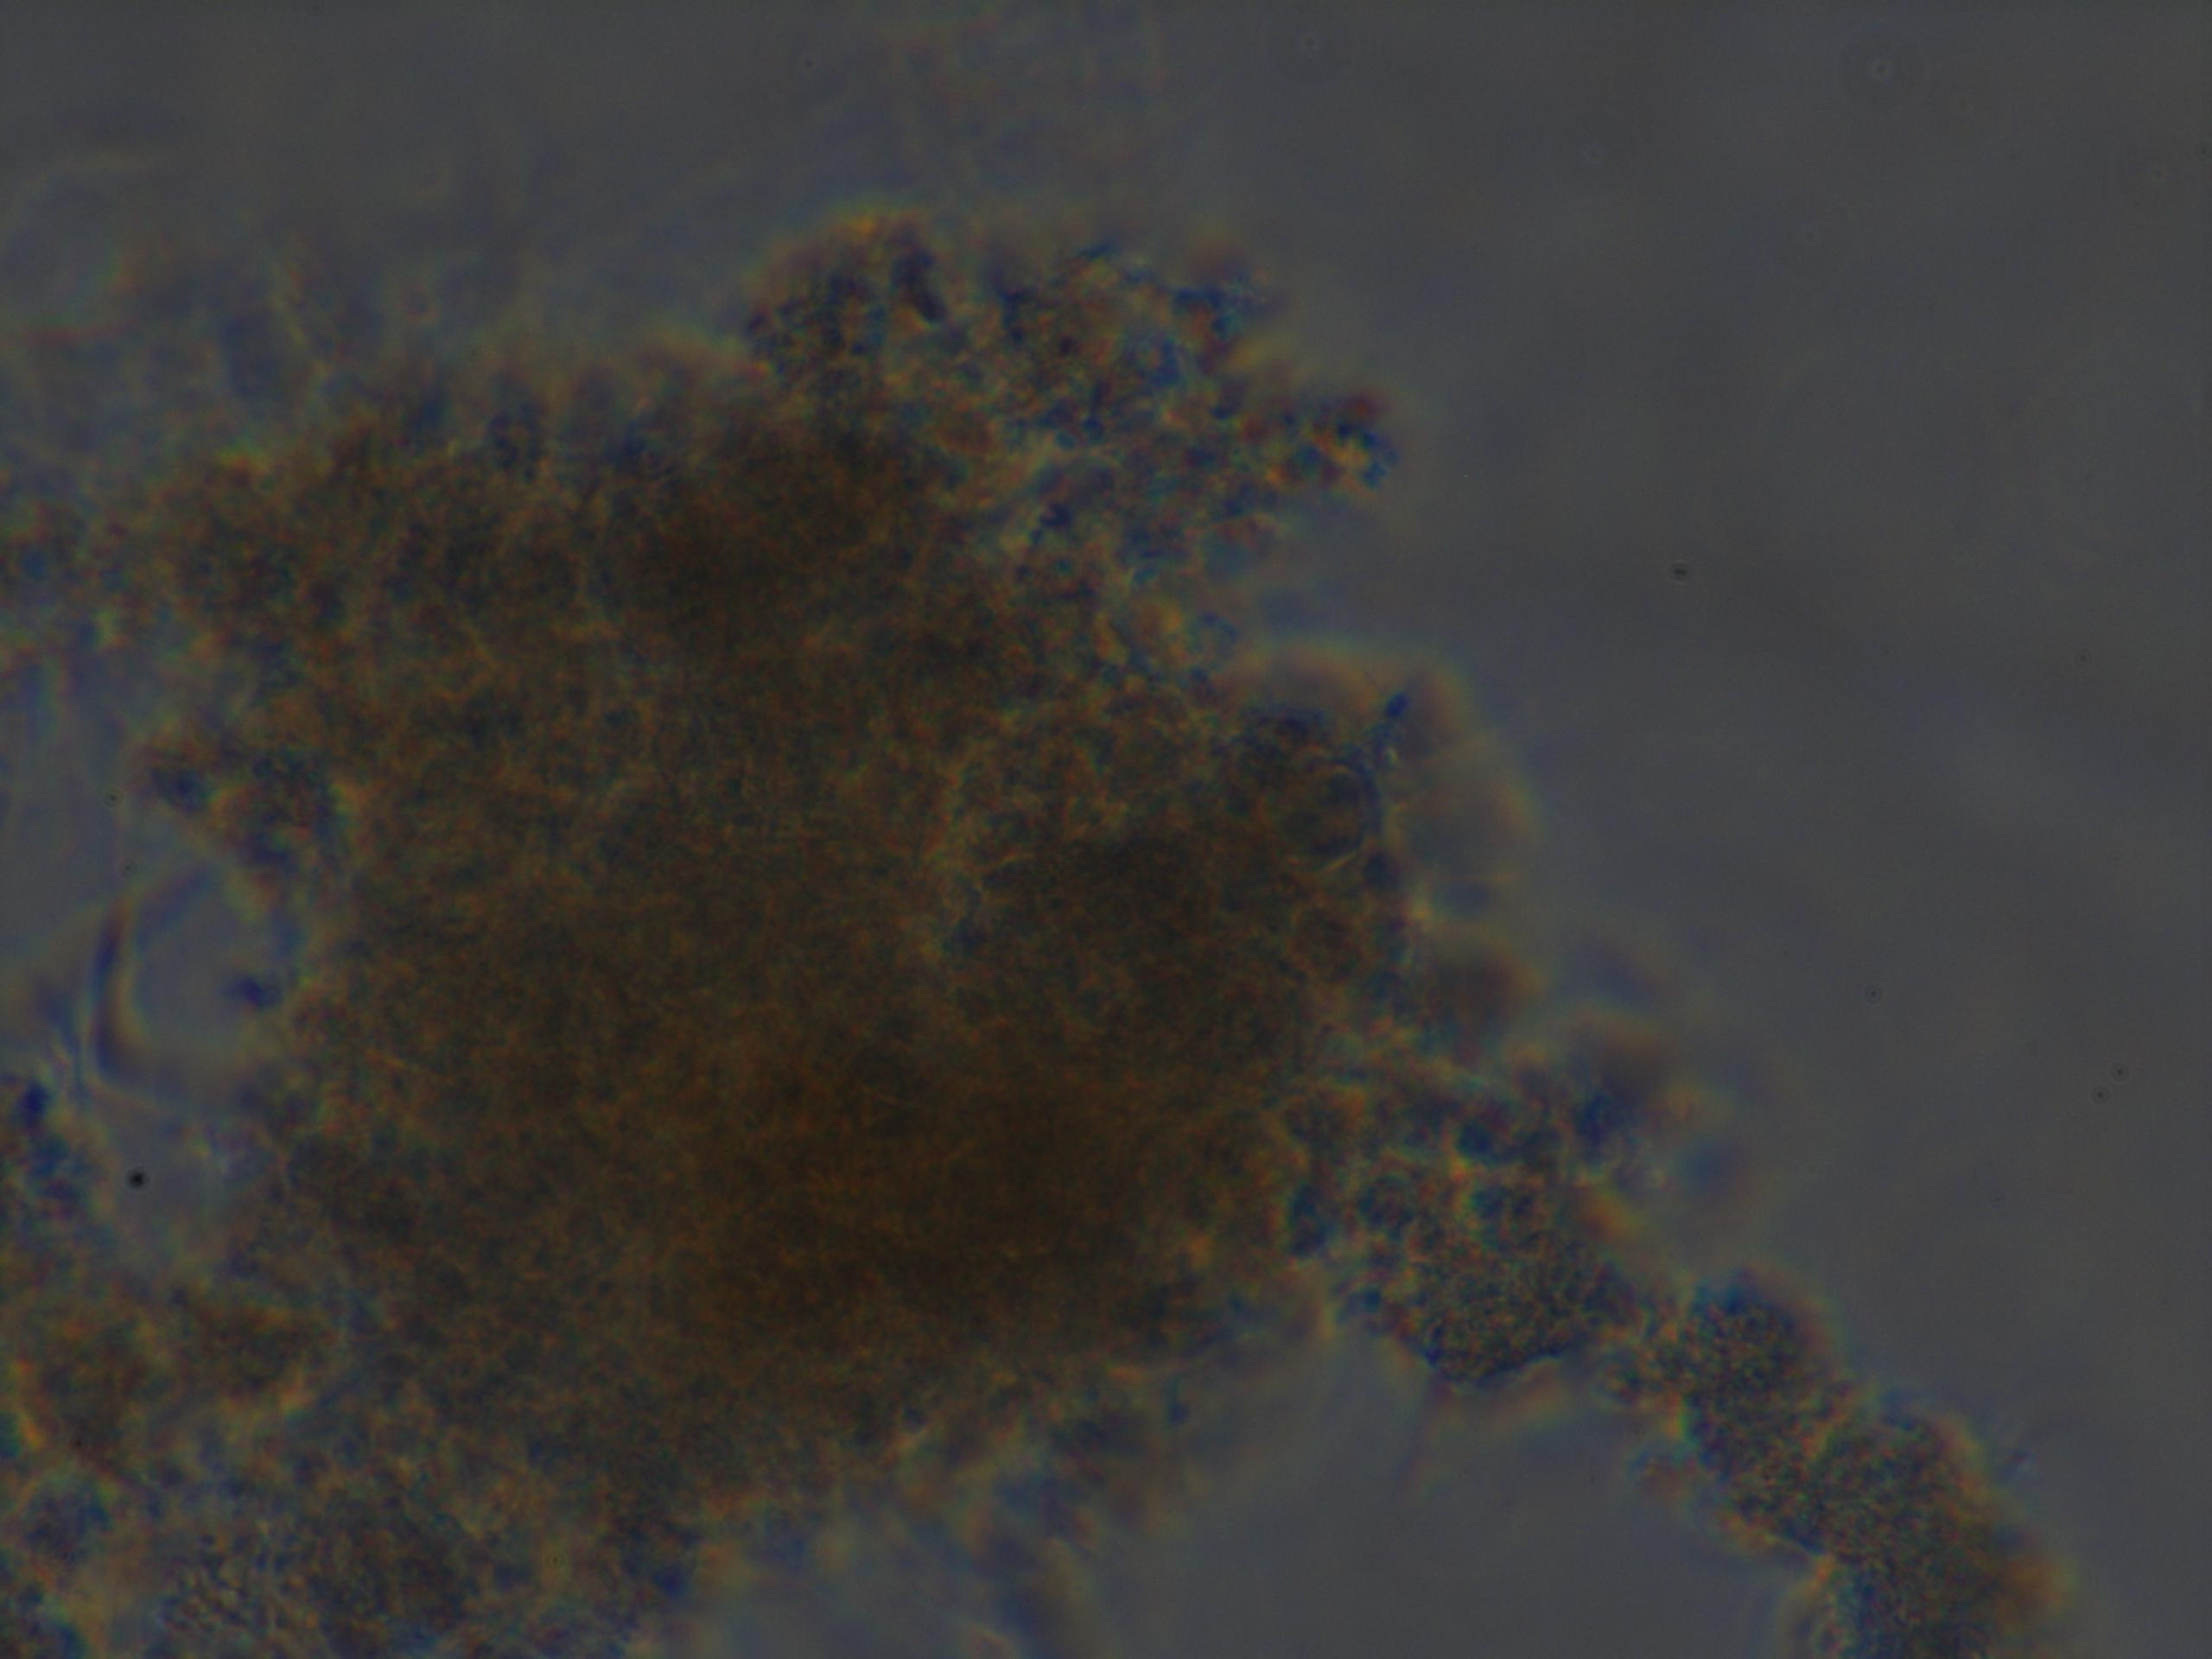spherical_floc: (89, 232, 1437, 1567)
